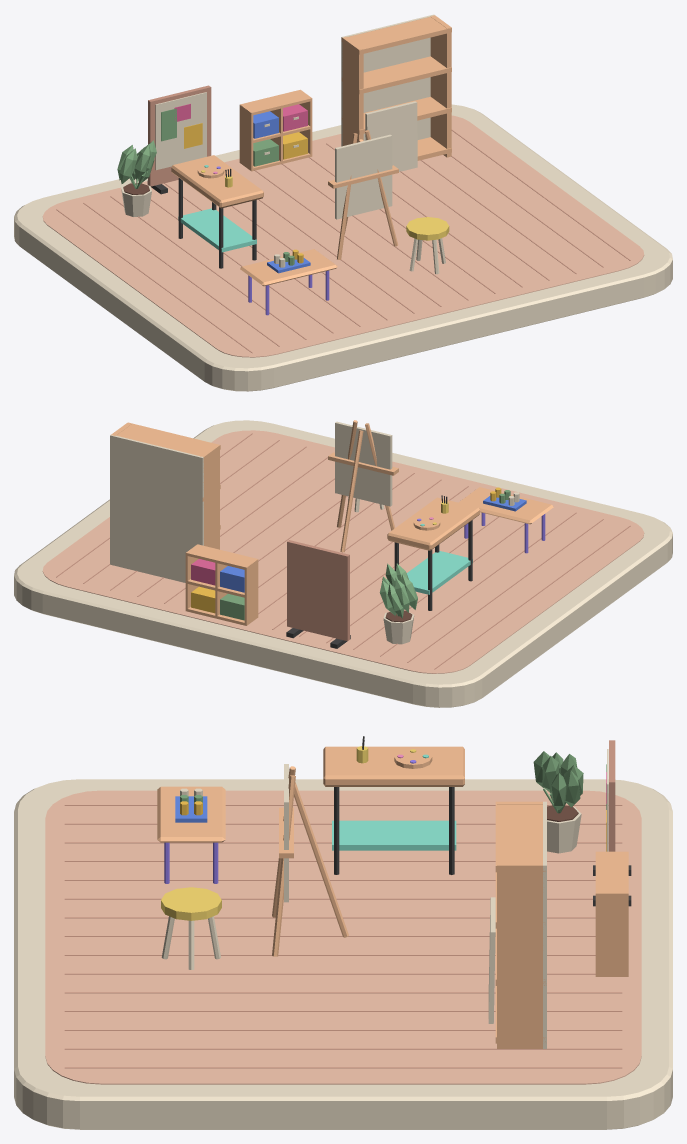
The model's file is room.fbx.
3 renders of one model, top to bottom at view 1: azimuth 30°, elevation 25°; view 2: azimuth 150°, elevation 25°; view 3: azimuth 270°, elevation 25°, orthographic. The views are drawn at different scales.
Visible parts, largest first — view 1: COM-02 Floor Surface, COM-01 Rounded Base Direct, Canvas, Back, Blank canvas, Canvas.001, Worktop, Pot, Side.003, Side.002, Shelf.003, Shelf.002 (+11 smaller); view 2: COM-02 Floor Surface, COM-01 Rounded Base Direct, Back, Panel, Canvas, Worktop, Pot, Side.002, Lower shelf, Shelf.003, Rounded table top, Cubbies shelf.002 (+6 smaller); view 3: COM-02 Floor Surface, COM-01 Rounded Base Direct, Side.003, Worktop, Lower shelf, Pot, Shelf.003, Rounded table top, Cubbies divider.002, Seat, Cubbies shelf.002, Plank seam.014 (+13 smaller).
Part boxes in pixels (left/top/right/bottom): COM-02 Floor Surface: left=42, top=115, right=644, bottom=357; COM-01 Rounded Base Direct: left=14, top=104, right=672, bottom=391; Canvas: left=335, top=134, right=392, bottom=219; Back: left=341, top=14, right=434, bottom=146; Blank canvas: left=365, top=101, right=417, bottom=171; Canvas.001: left=155, top=92, right=206, bottom=170; Worktop: left=171, top=155, right=263, bottom=208; Pot: left=117, top=140, right=156, bottom=216; Side.003: left=430, top=15, right=451, bottom=157; Side.002: left=342, top=37, right=363, bottom=145; Shelf.003: left=341, top=17, right=451, bottom=54; Shelf.002: left=341, top=56, right=451, bottom=94; COM-02 Floor Surface: left=42, top=430, right=644, bottom=673; COM-01 Rounded Base Direct: left=14, top=420, right=672, bottom=707; Back: left=110, top=434, right=203, bottom=582; Panel: left=287, top=540, right=349, bottom=641; Canvas: left=335, top=421, right=392, bottom=506; Worktop: left=387, top=497, right=479, bottom=550; Pot: left=379, top=563, right=417, bottom=644; Side.002: left=199, top=444, right=219, bottom=549; Lower shelf: left=406, top=551, right=472, bottom=594; Shelf.003: left=116, top=422, right=220, bottom=456; Rounded table top: left=459, top=487, right=553, bottom=524; Cubbies shelf.002: left=186, top=544, right=257, bottom=569; COM-02 Floor Surface: left=45, top=790, right=641, bottom=1084; COM-01 Rounded Base Direct: left=14, top=779, right=672, bottom=1129; Side.003: left=497, top=862, right=542, bottom=1048; Worktop: left=323, top=746, right=464, bottom=786; Lower shelf: left=332, top=820, right=456, bottom=850; Pot: left=533, top=751, right=583, bottom=853; Shelf.003: left=495, top=801, right=545, bottom=872; Rounded table top: left=157, top=786, right=225, bottom=842; Cubbies divider.002: left=595, top=894, right=628, bottom=976; Seat: left=161, top=887, right=221, bottom=920; Cubbies shelf.002: left=595, top=851, right=628, bottom=893; Plank seam.014: left=64, top=1067, right=622, bottom=1068.
Size of the model in its own units: 600 by 190 by 520.
